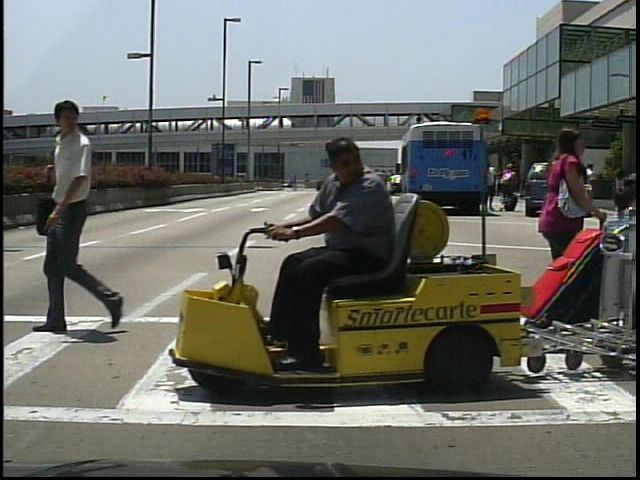person: (261, 134, 406, 373), (33, 99, 136, 334), (530, 121, 594, 354), (579, 180, 635, 326), (501, 164, 521, 218), (480, 162, 500, 216), (580, 163, 601, 214)
